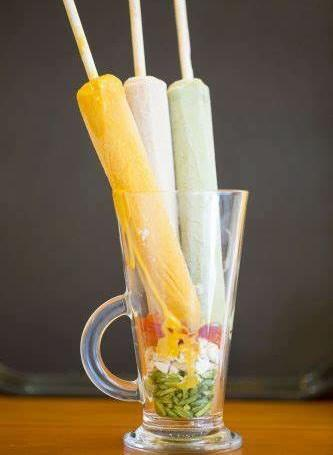Kulfi: (76, 76, 197, 332), (172, 78, 222, 338), (126, 74, 179, 250)
